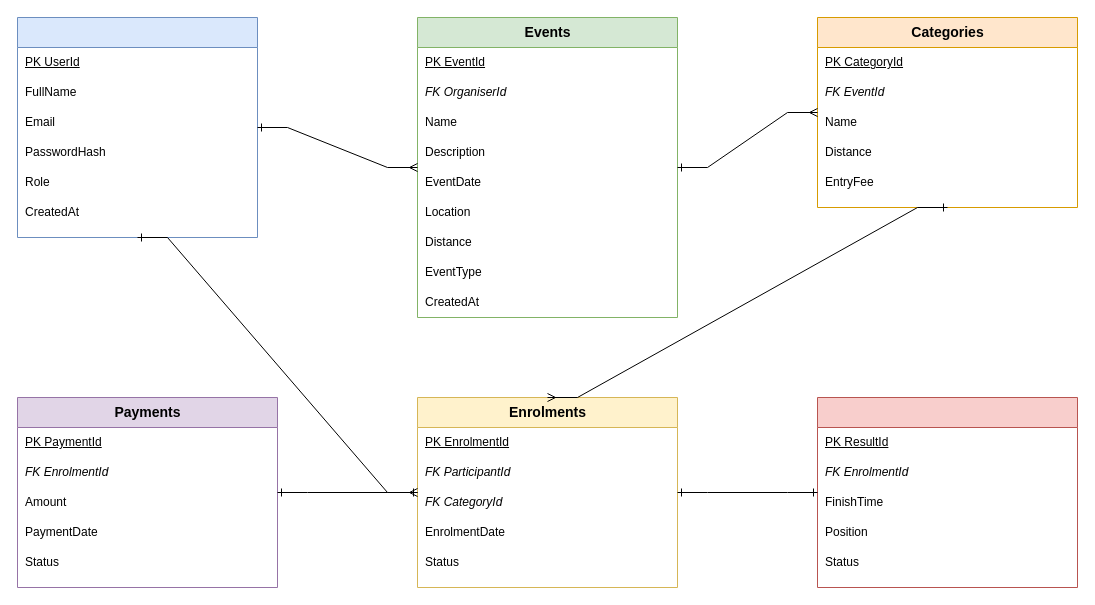
Some shapes in this 1095 by 605 pixel diagram are drawn without their labels. The shapes that lost their labels are listed below. From the top down, each one's box as (x1, y1, x2, y2) in pixels, then its label:
(16, 16, 258, 238): Users
(816, 396, 1078, 588): Results
